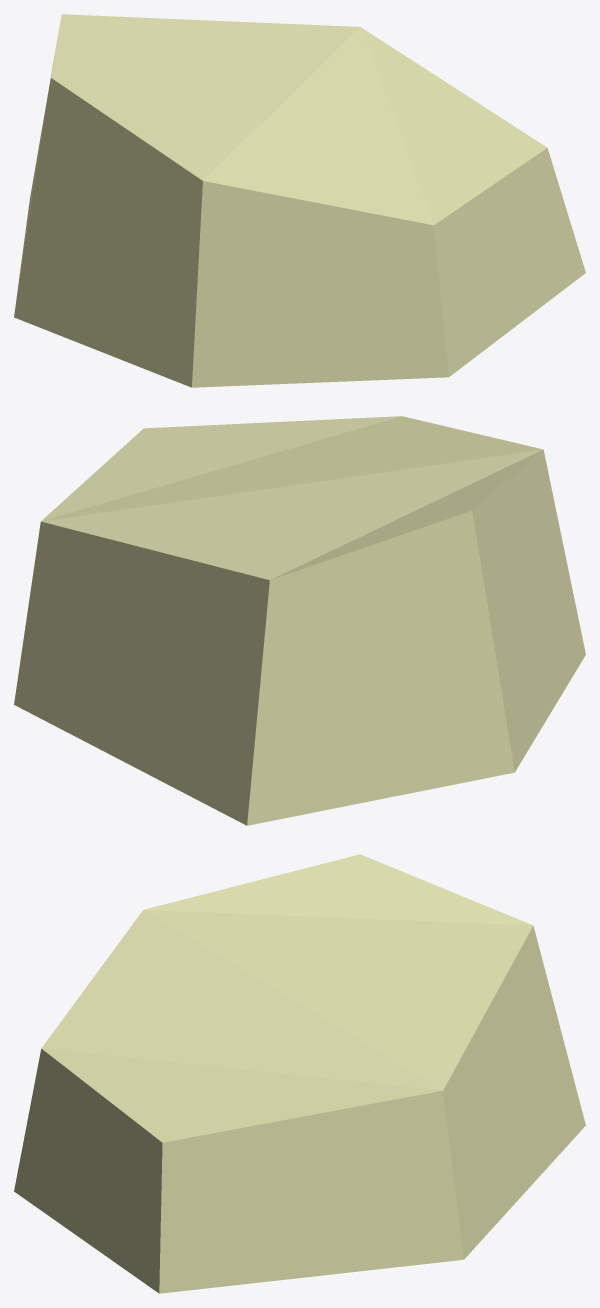
File: Rock_Mesa_Medium_16.fbx
3 views of the same model, one above another, from view 1: azimuth 30°, elevation 25°; view 2: azimuth 150°, elevation 25°; view 3: azimuth 270°, elevation 25° (orthographic). The views are drawn at different scales.
Parts seen in each view (by area): view 1: Rock; view 2: Rock; view 3: Rock.
Part boxes in pixels (x1,y1,x2,y2): Rock: (14, 14, 585, 387); Rock: (14, 416, 585, 825); Rock: (14, 854, 585, 1293).
Size of the model in its own units: 67.06 by 31.17 by 70.35.
